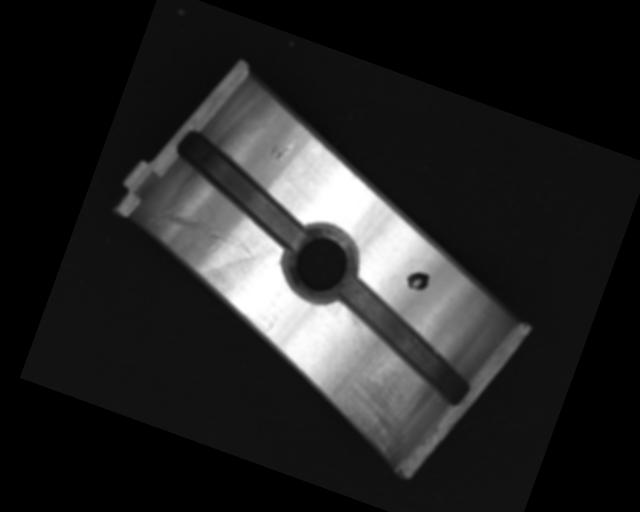blot: (402, 267, 432, 295)
bruise: (267, 129, 299, 165)
gap: (317, 274, 491, 409), (157, 127, 328, 252)
hole: (269, 213, 369, 315)
nick: (143, 183, 271, 265)
scratch: (304, 311, 441, 467)
